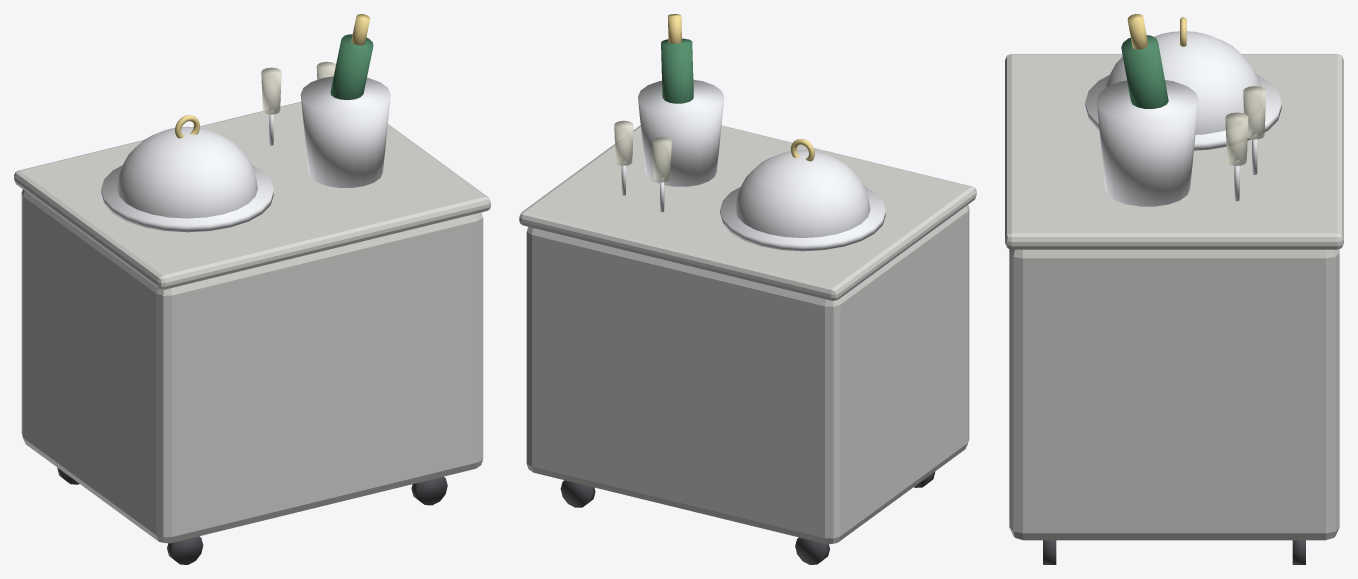
The model's file is hotel_room_service_cart.glb.
3 renders of one model, left to right at view 1: azimuth 30°, elevation 25°; view 2: azimuth 150°, elevation 25°; view 3: azimuth 270°, elevation 25°, orthographic. The views are drawn at different scales.
Visible parts, largest first — view 1: Wheel_-0.36_-0.28; view 2: Wheel_-0.36_-0.28; view 3: Wheel_-0.36_-0.28.
Boxes of the visible parts, box(x1,y1,x2,y2) form: Wheel_-0.36_-0.28: box(14, 14, 490, 564); Wheel_-0.36_-0.28: box(519, 14, 976, 564); Wheel_-0.36_-0.28: box(1005, 14, 1343, 564).
Bounding box in the file's own units: 0.98 × 1.31 × 0.76.
